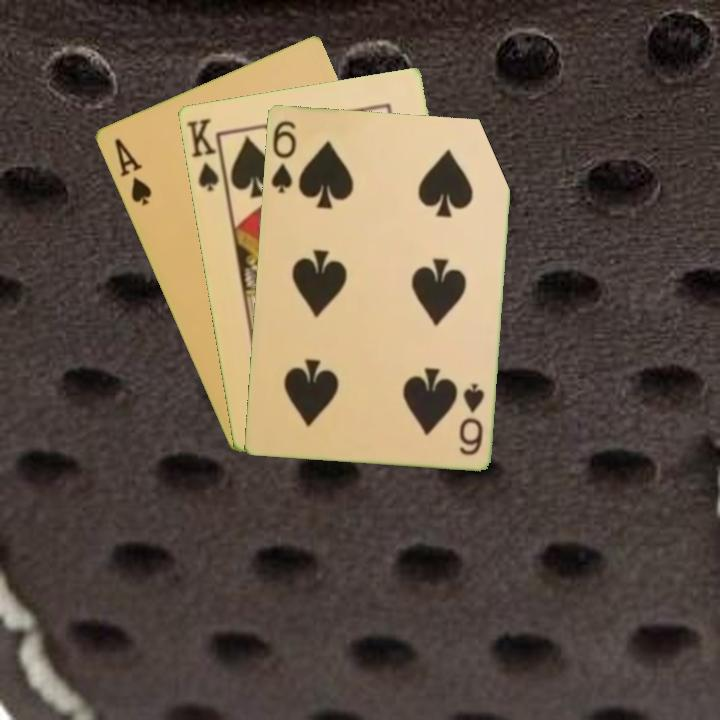6s: (267, 117, 299, 196), (455, 379, 487, 458)
As: (110, 134, 154, 209)
Ks: (182, 114, 221, 194)
